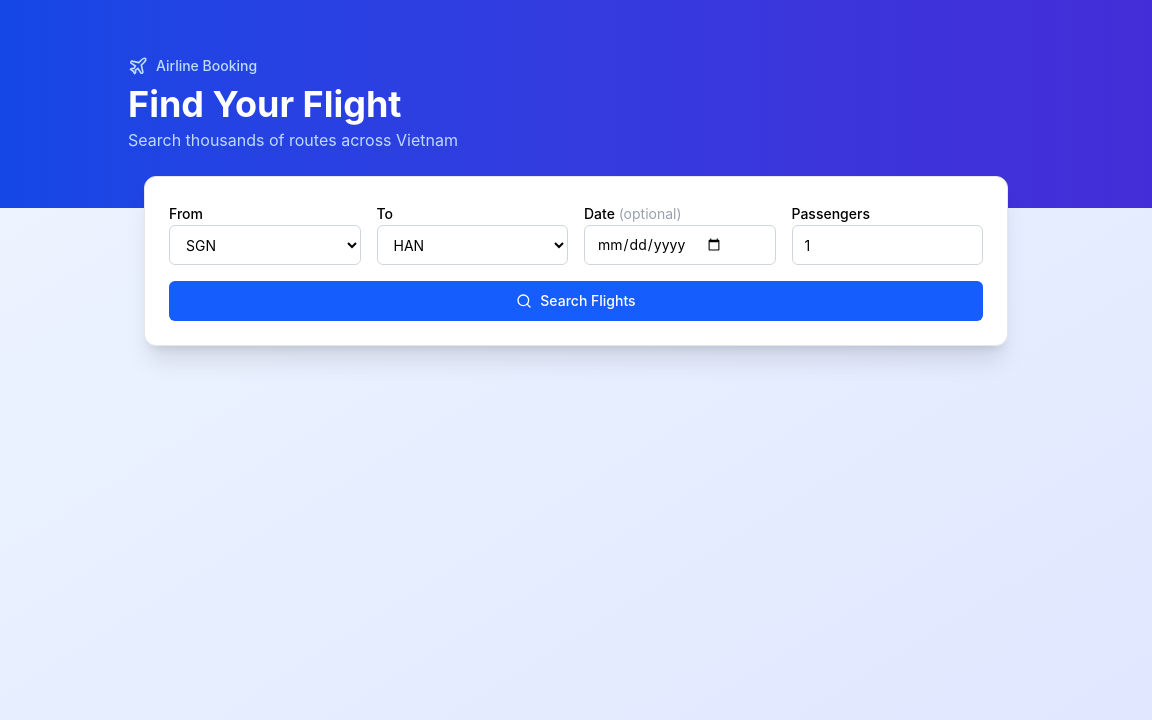
Scenario: SearchPage › disables Next on last page
Click the button "Search Flights" at [576, 301], box [169,281,983,321]
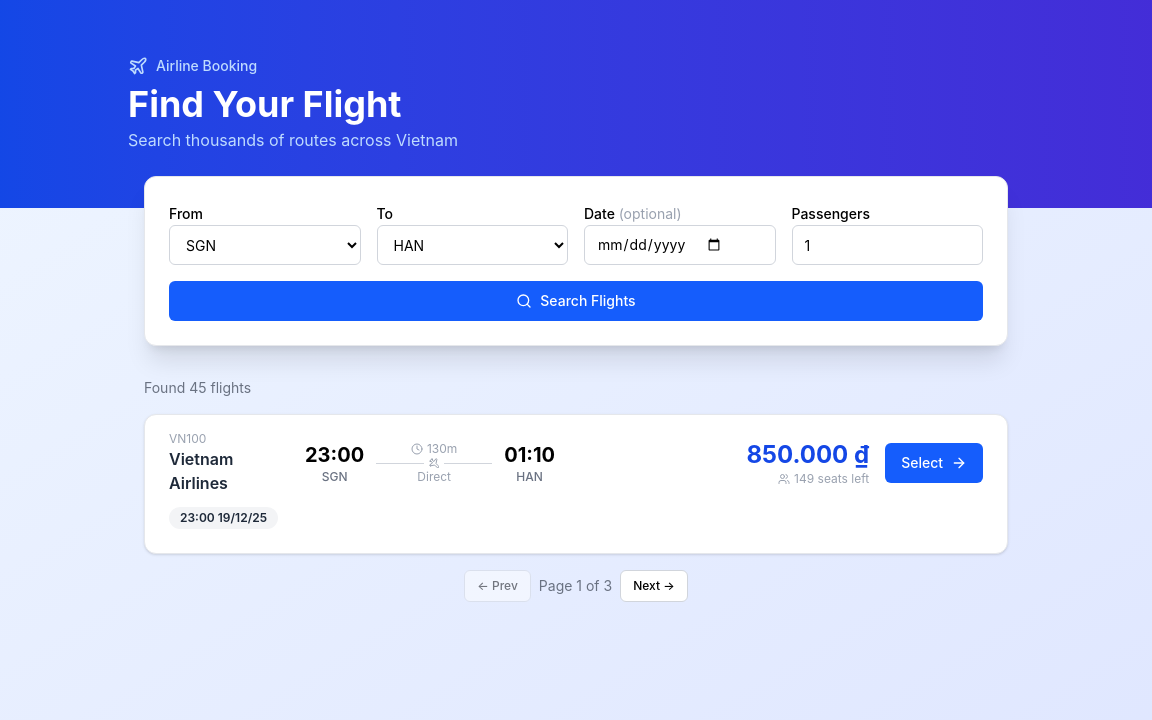
Now the text "Page 1 of 3" is shown, box [539,576,612,596]
Click the button "Next →" at [654, 586], box [620,570,688,602]
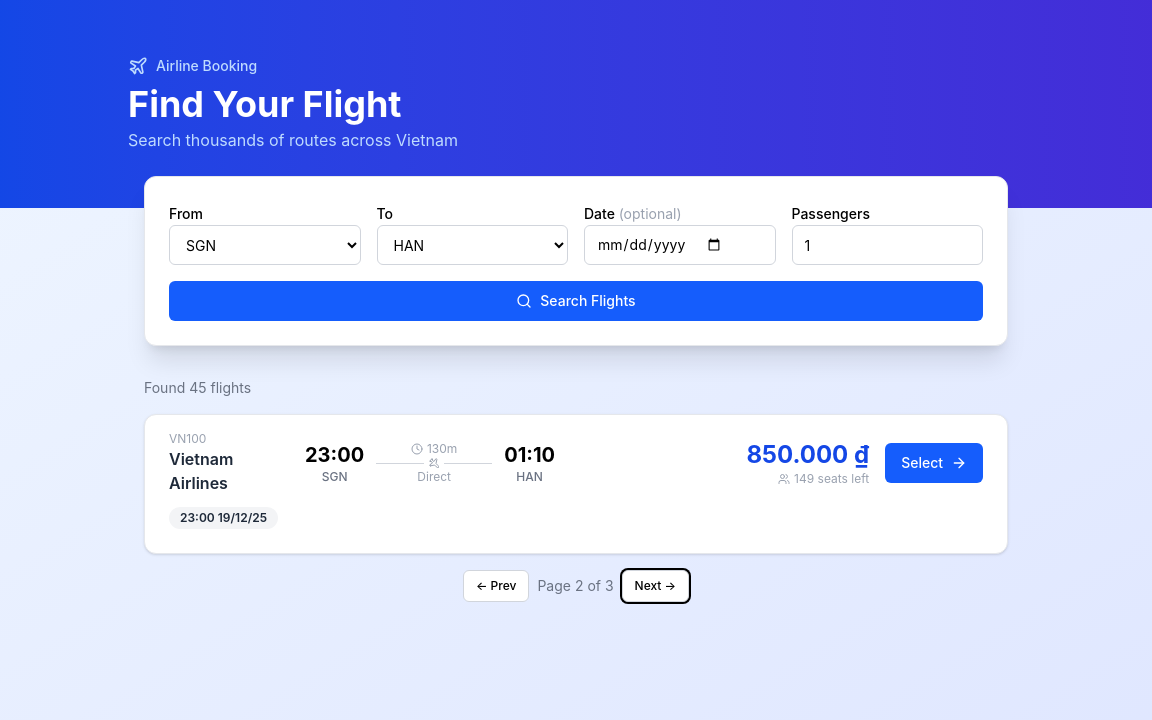
Now the text "Page 2 of 3" is shown, box [537,576,614,596]
Click the button "Next →" at [655, 586], box [622,570,689,602]
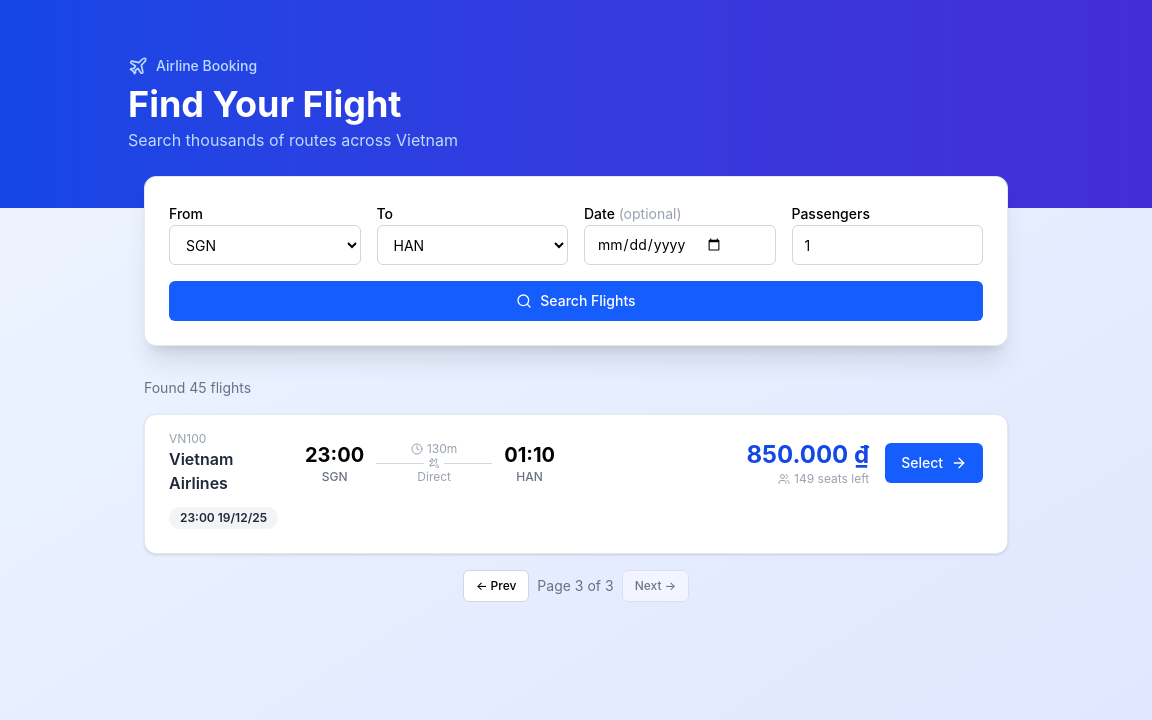
Now the text "Page 3 of 3" is shown, box [537,576,614,596]
Now the button "Next →" is disabled, box [622,570,689,602]
